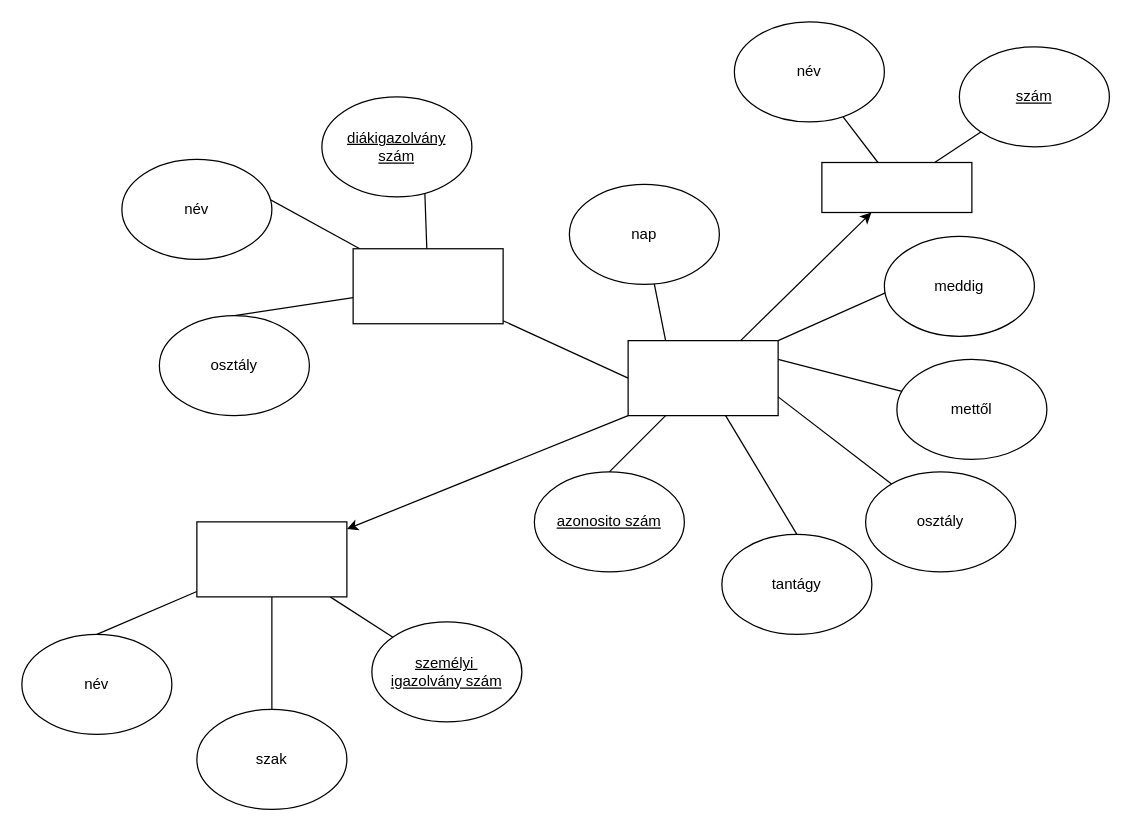
This 1131x831 diagram has some shape labels left out. Each missing label, with the centre of its shape:
"Diák" belongs at (x=427, y=286).
"Tanár" belongs at (x=271, y=559).
"Terem" belongs at (x=896, y=186).
"Óra" belongs at (x=702, y=377).
